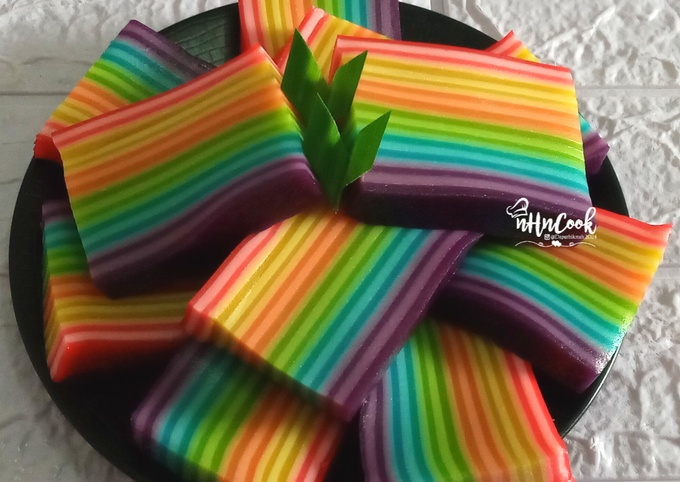kue_lapis_pelangi: (178, 192, 485, 423), (49, 45, 323, 298), (350, 35, 593, 224)
